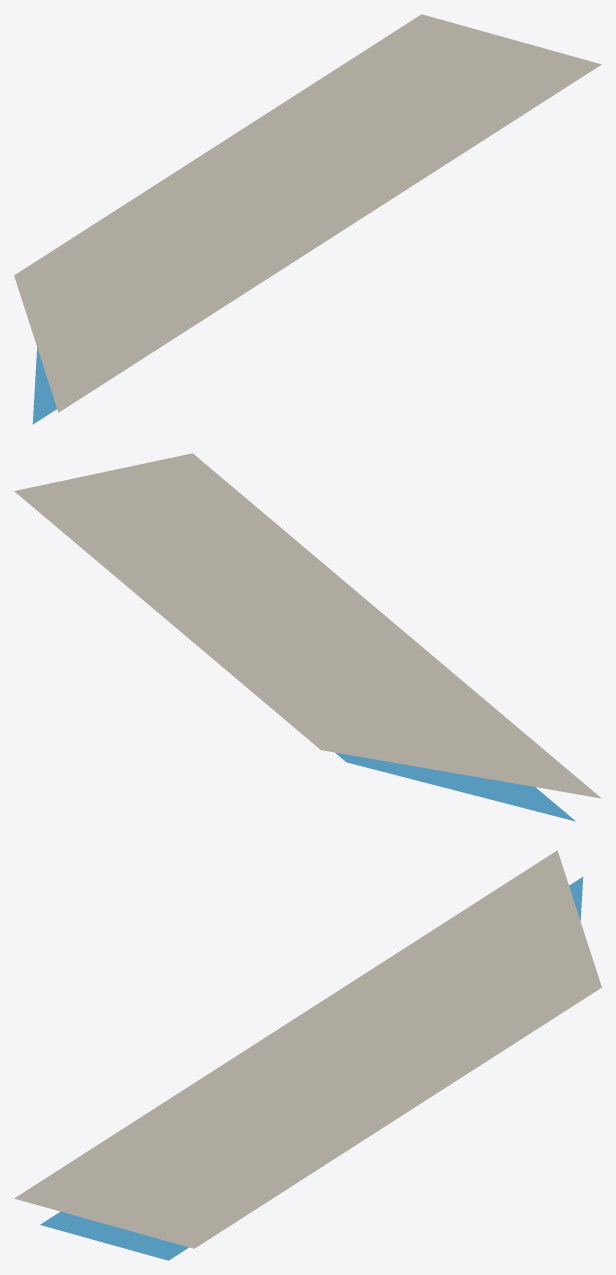
The picture shows the model from 3 angles, top to bottom: view 1: azimuth 90°, elevation 25°; view 2: azimuth 150°, elevation 25°; view 3: azimuth 270°, elevation 25°; orthographic projection. The views are drawn at different scales.
Parts seen in each view (by area): view 1: estructura_terreno, estructura_agua; view 2: estructura_terreno, estructura_agua; view 3: estructura_terreno, estructura_agua.
Boxes of the visible parts, bbox=[...] form: estructura_terreno: bbox=[14, 14, 601, 412]; estructura_agua: bbox=[32, 347, 56, 424]; estructura_terreno: bbox=[14, 453, 601, 798]; estructura_agua: bbox=[335, 752, 575, 821]; estructura_terreno: bbox=[14, 850, 601, 1248]; estructura_agua: bbox=[40, 877, 583, 1260].
Size of the model in its own units: 18.34 by 0.41 by 11.43.
